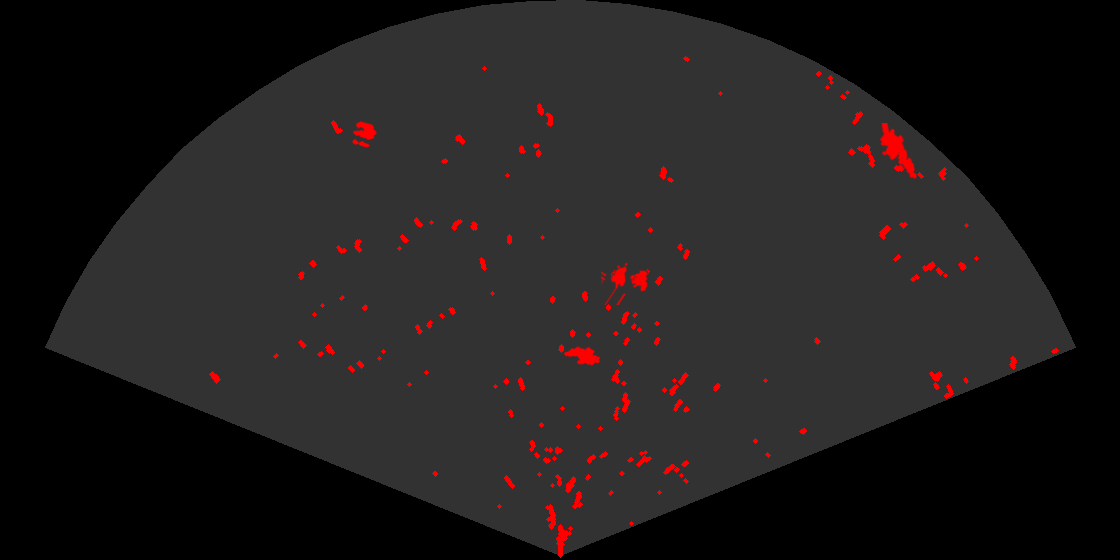AUV: (562, 345, 602, 367)
ball: (350, 120, 378, 149)
cage: (601, 261, 649, 305)
frogman: (878, 123, 918, 181)
